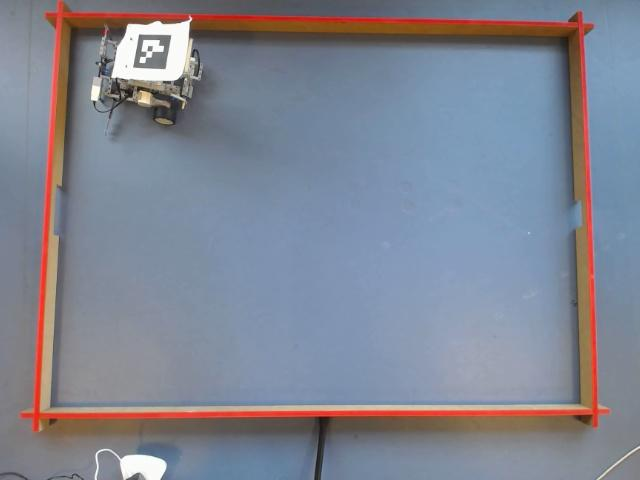ev3: (93, 20, 200, 124)
